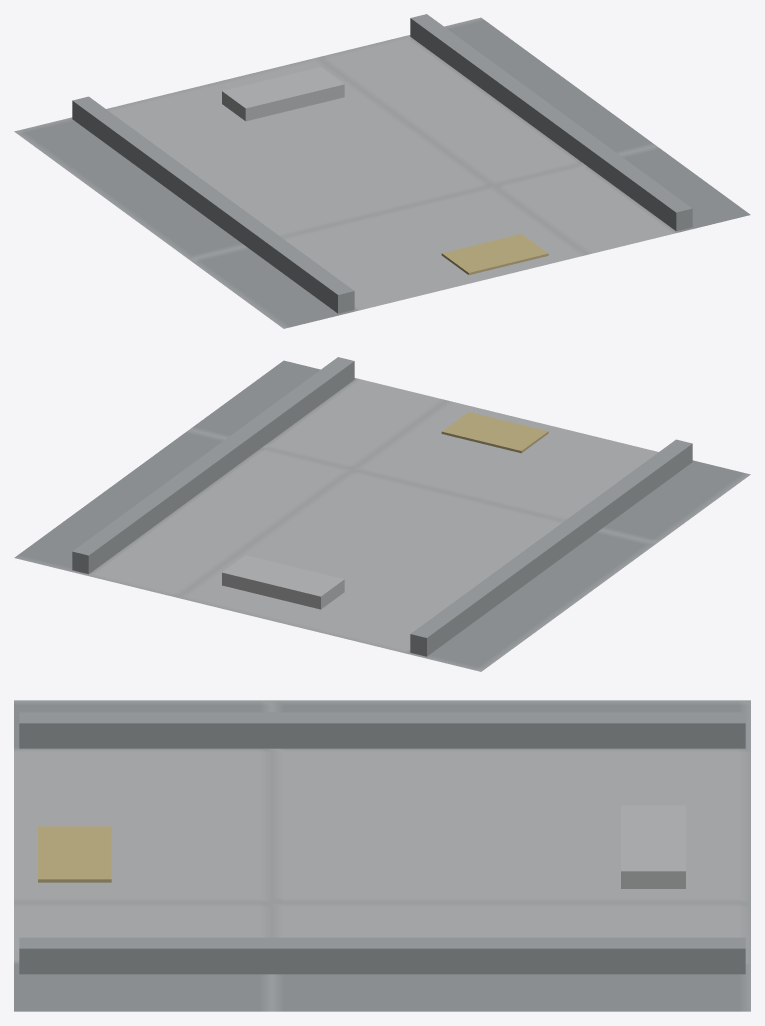
The model's file is urban-sidewalk.glb.
3 renders of one model, top to bottom at view 1: azimuth 30°, elevation 25°; view 2: azimuth 150°, elevation 25°; view 3: azimuth 270°, elevation 25°, orthographic. The views are drawn at different scales.
Parts seen in each view (by area): view 1: Ground, Obstacle_Curb_Left, Obstacle_Curb_Right, Obstacle_Raised_Slab, Decor_Tactile_Paving; view 2: Ground, Obstacle_Curb_Left, Obstacle_Curb_Right, Obstacle_Raised_Slab, Decor_Tactile_Paving; view 3: Ground, Obstacle_Curb_Right, Obstacle_Curb_Left, Obstacle_Raised_Slab, Decor_Tactile_Paving.
Boxes of the visible parts, x1,y1,x2,y2 form: Ground: (14,17,750,328); Obstacle_Curb_Left: (72,96,354,313); Obstacle_Curb_Right: (410,14,692,231); Obstacle_Raised_Slab: (222,67,344,121); Decor_Tactile_Paving: (441,234,548,274); Ground: (14,360,750,671); Obstacle_Curb_Left: (410,439,692,656); Obstacle_Curb_Right: (72,357,354,574); Obstacle_Raised_Slab: (222,555,344,609); Decor_Tactile_Paving: (441,412,548,453); Ground: (14,700,750,1011); Obstacle_Curb_Right: (19,937,745,974); Obstacle_Curb_Left: (19,712,745,748); Obstacle_Raised_Slab: (621,805,685,888); Decor_Tactile_Paving: (38,826,111,882).
Bounding box in the file's own units: 3.4 × 0.13 × 3.4.
